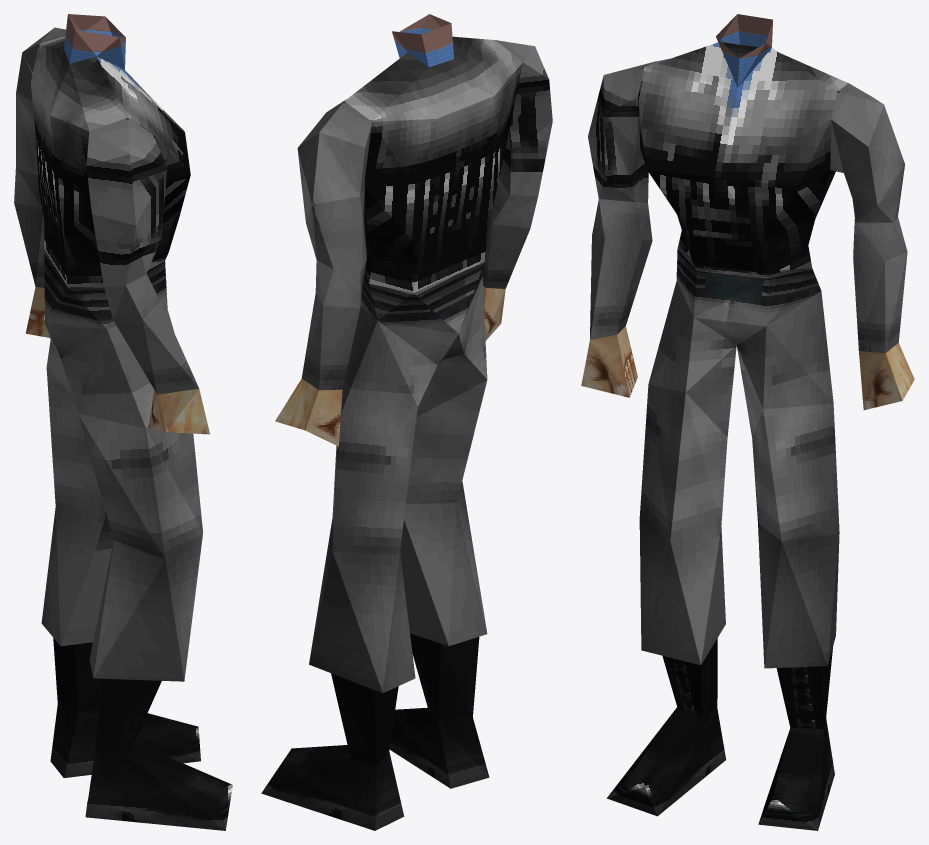
The model's file is primary_006.glb.
The picture shows the model from 3 angles, left to right: view 1: azimuth 30°, elevation 25°; view 2: azimuth 150°, elevation 25°; view 3: azimuth 270°, elevation 25°; orthographic projection. The views are drawn at different scales.
Parts seen in each view (by area): view 1: Object; view 2: Object; view 3: Object.
Part boxes in pixels (x1,y1,x2,y2): Object: (14,14,232,830); Object: (261,14,552,830); Object: (581,14,914,830).
Size of the model in its own units: 0.4712 by 1.83 by 0.7369.
69 materials, 69 textured.
